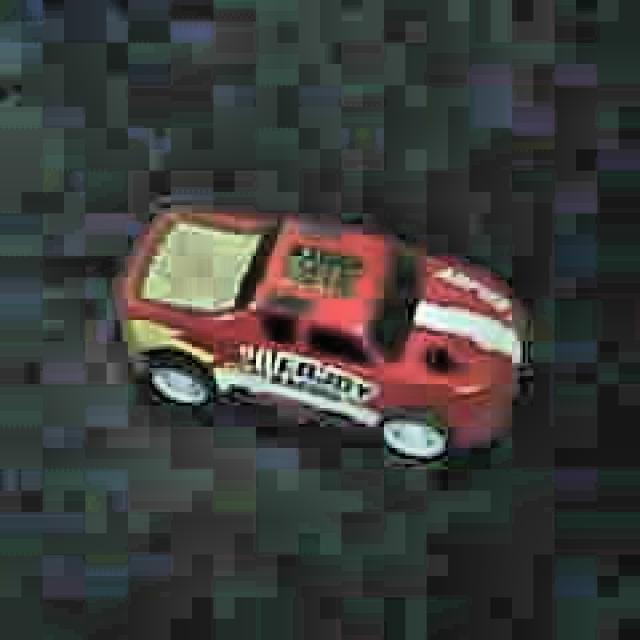car: (115, 200, 531, 467)
